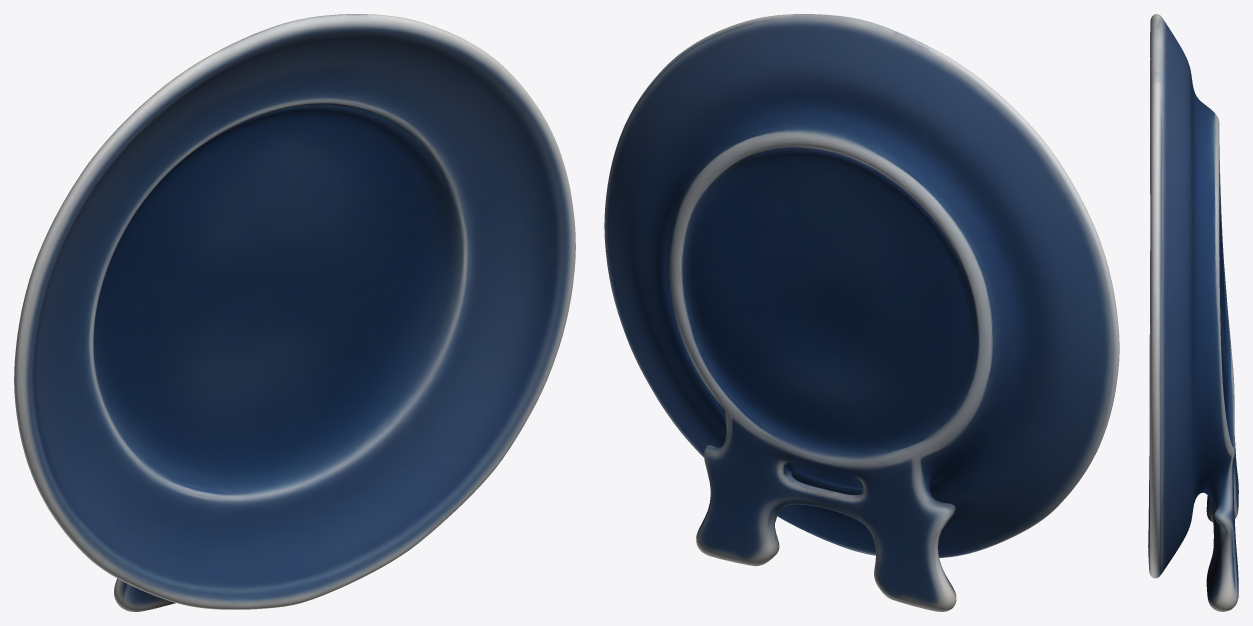
File: jilan.glb
3 renders of one model, left to right at view 1: azimuth 30°, elevation 25°; view 2: azimuth 150°, elevation 25°; view 3: azimuth 270°, elevation 25°, orthographic. The views are drawn at different scales.
Visible parts, largest first — view 1: node_0; view 2: node_0; view 3: node_0.
Boxes of the visible parts, left/top/right/bottom form: node_0: left=14, top=14, right=575, bottom=611; node_0: left=604, top=14, right=1119, bottom=611; node_0: left=1148, top=14, right=1238, bottom=611.
Bounding box in the file's own units: 1.09 × 1.09 × 0.173.
Materials: 1 (1 with a texture image).
